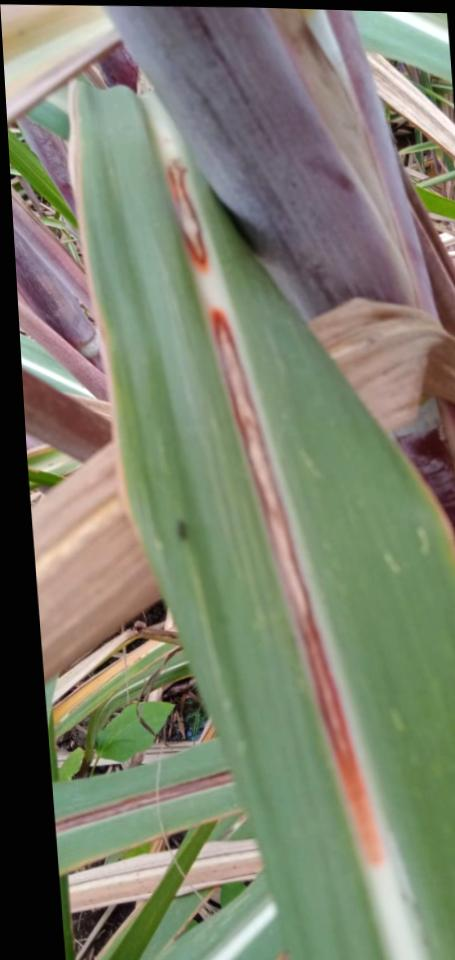RedRot: (210, 302, 387, 870), (167, 158, 208, 271)
